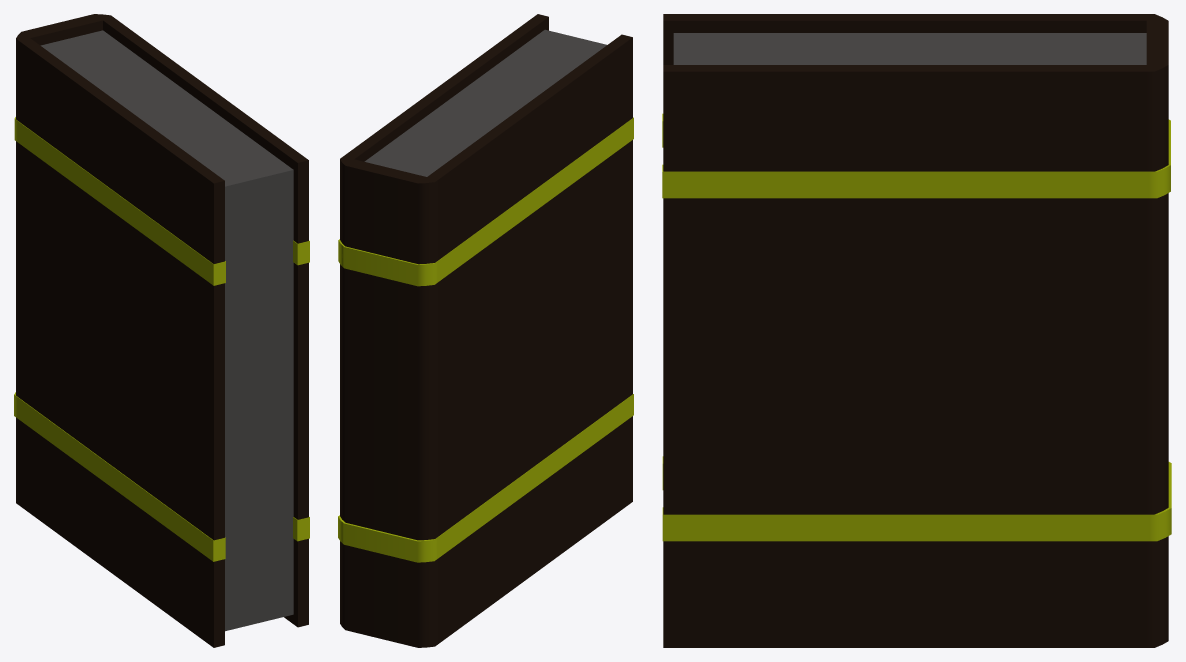
File: SM_Book_002.fbx
3 renders of one model, left to right at view 1: azimuth 30°, elevation 25°; view 2: azimuth 150°, elevation 25°; view 3: azimuth 270°, elevation 25°, orthographic. The views are drawn at different scales.
Parts seen in each view (by area): view 1: pCube24; view 2: pCube24; view 3: pCube24.
Boxes of the visible parts, <box> form: pCube24: <box>14,14,309,647</box>; pCube24: <box>338,14,633,647</box>; pCube24: <box>662,14,1171,647</box>.
Size of the model in its own units: 6.84 by 31.5 by 25.23.
